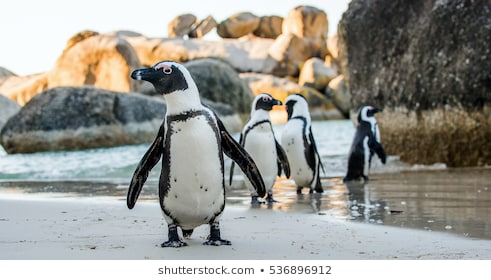penguin: (111, 49, 281, 254), (227, 85, 294, 208), (277, 90, 332, 209), (340, 97, 397, 203)
